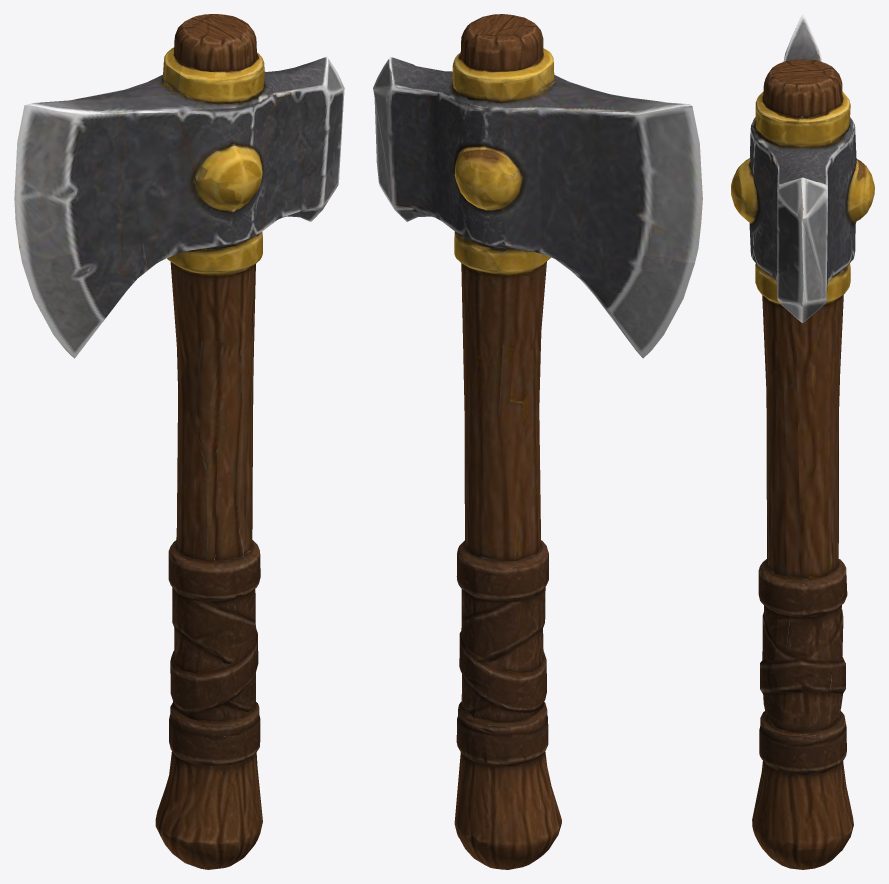
The model's file is brawler_axe.glb.
3 renders of one model, left to right at view 1: azimuth 30°, elevation 25°; view 2: azimuth 150°, elevation 25°; view 3: azimuth 270°, elevation 25°, orthographic. The views are drawn at different scales.
Bounding box in the file's own units: 0.5142 × 1.24 × 0.2044.
Materials: 1 (1 with a texture image).
